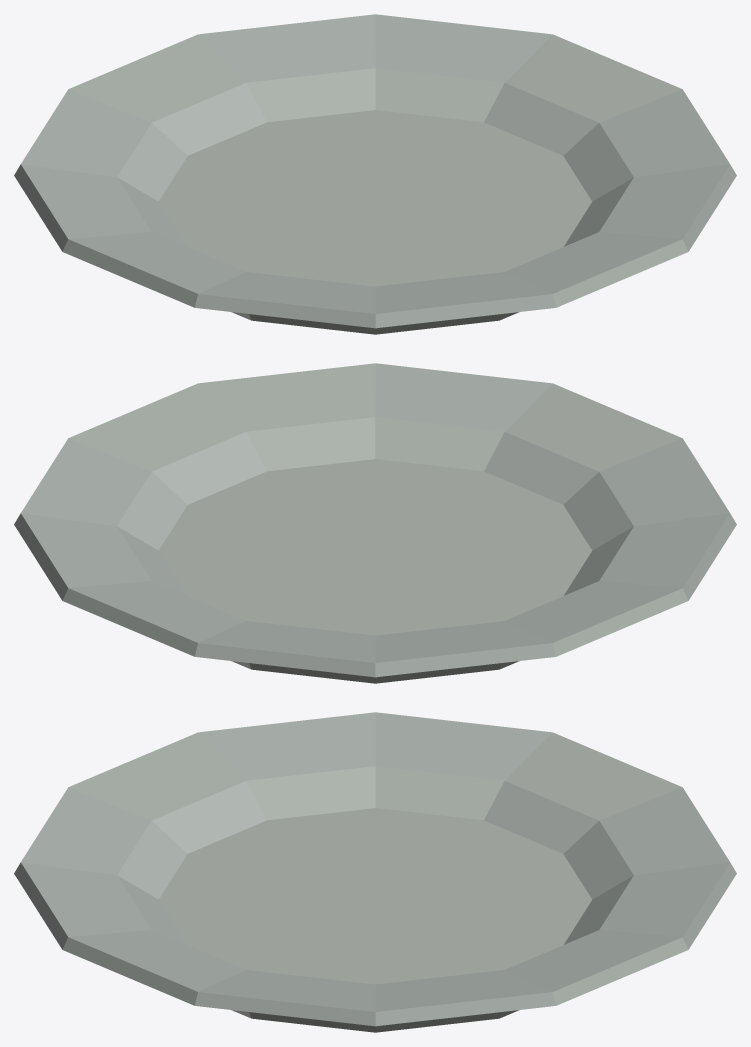
The model's file is SM_Item_Plate_01.glb.
The picture shows the model from 3 angles, top to bottom: view 1: azimuth 30°, elevation 25°; view 2: azimuth 150°, elevation 25°; view 3: azimuth 270°, elevation 25°; orthographic projection.
Visible parts, largest first — view 1: SM_Item_Plate_01; view 2: SM_Item_Plate_01; view 3: SM_Item_Plate_01.
Part boxes in pixels (<box>): SM_Item_Plate_01: <box>14,14,736,334</box>; SM_Item_Plate_01: <box>14,363,736,683</box>; SM_Item_Plate_01: <box>14,712,736,1032</box>.
Bounding box in the file's own units: 0.00533 × 0.000535 × 0.00533.
1 material, 1 textured.
